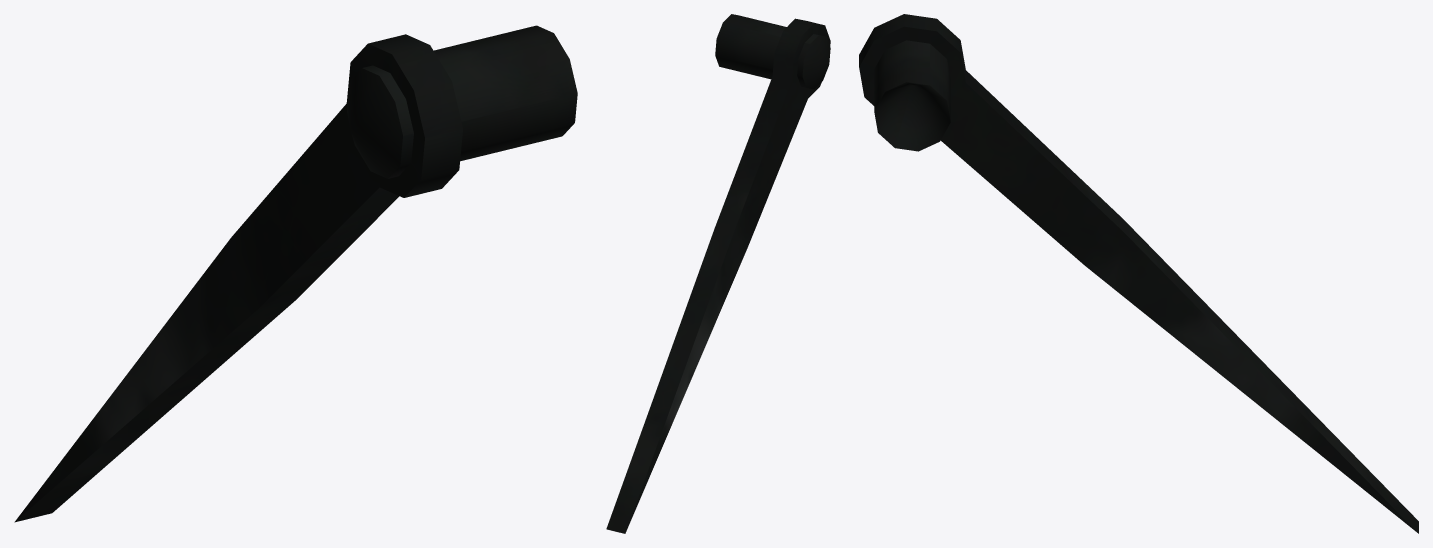
File: jk3_indicator_firetemp.fbx
3 views of the same model, side by side, from view 1: azimuth 30°, elevation 25°; view 2: azimuth 150°, elevation 25°; view 3: azimuth 270°, elevation 25° (orthographic). The views are drawn at different scales.
Visible parts, largest first — view 1: Circle.116; view 2: Circle.116; view 3: Circle.116.
Part boxes in pixels (bbox=[...]): Circle.116: bbox=[14, 25, 577, 522]; Circle.116: bbox=[606, 14, 830, 533]; Circle.116: bbox=[859, 14, 1418, 533].
Size of the model in its own units: 1.46 by 5.21 by 5.21.
Materials: 1 (1 with a texture image).
